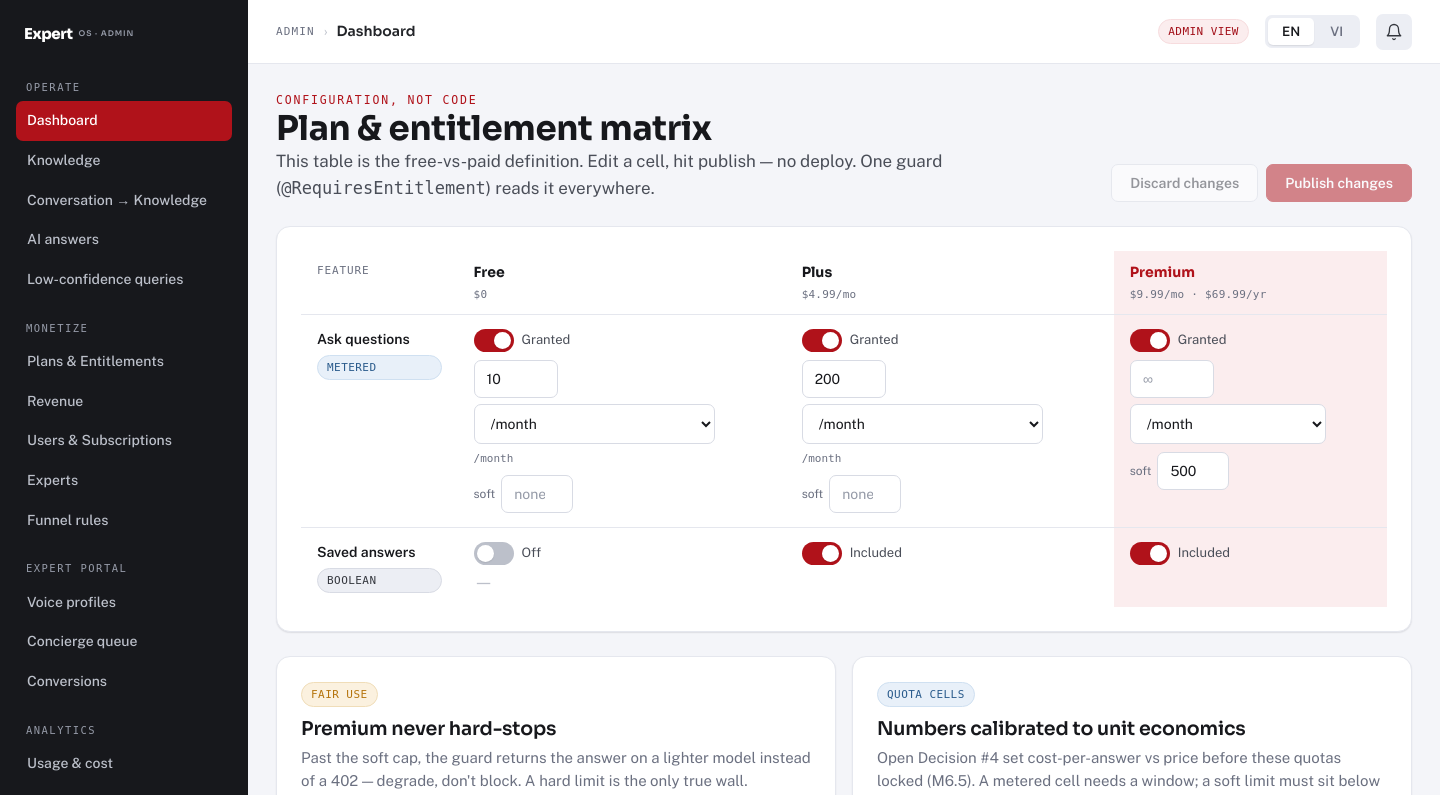
EntitlementsPage — staged publish › discards staged edits, reverting the dirty cell
Expected: the text "Ask questions" is shown, [317, 331, 410, 347]
Click the checkbox labelled "Off". click: {"x": 507, "y": 554}
box: [474, 542, 541, 565]
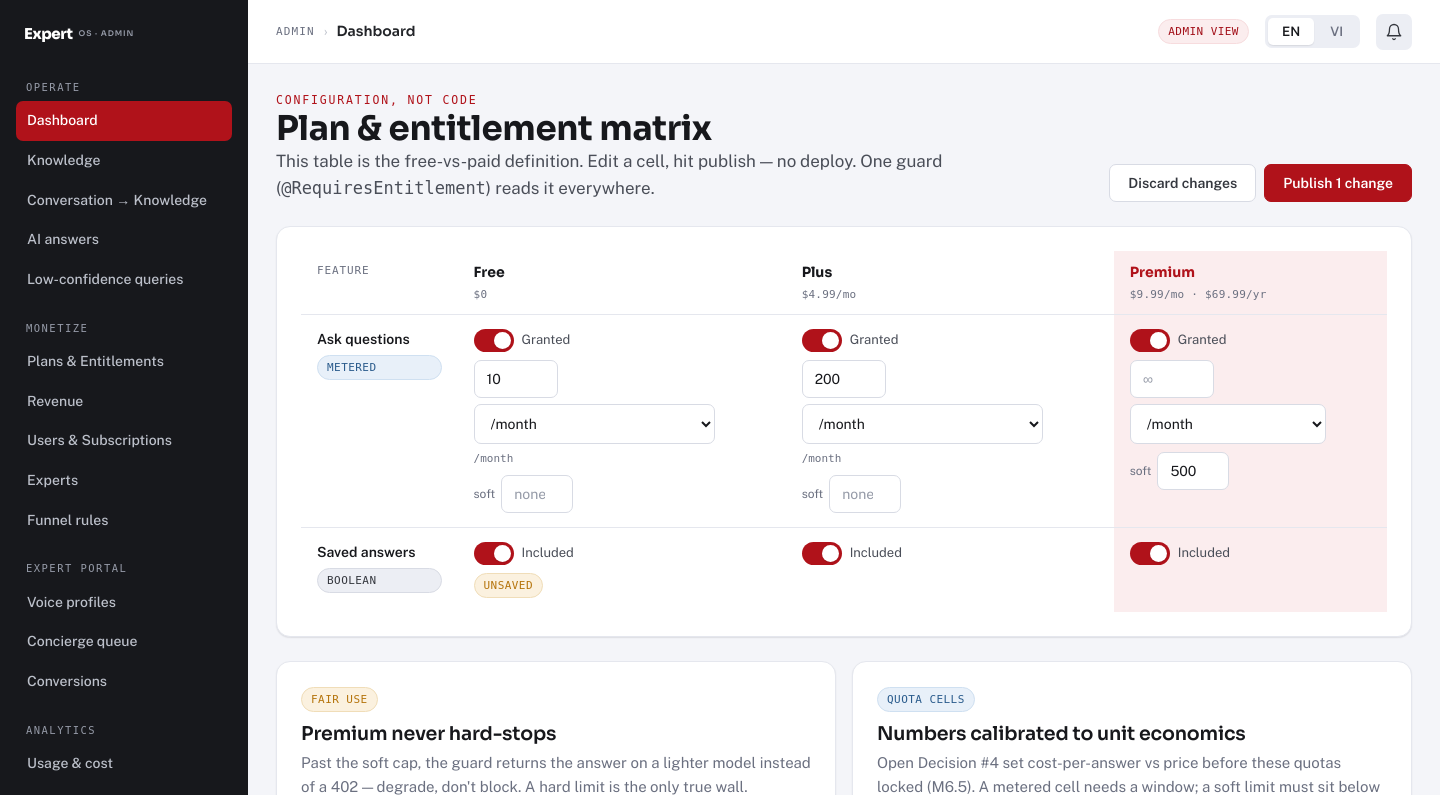
Result: the text "Unsaved" is shown at [474, 573, 543, 598]
Click the button "Discard changes". click: {"x": 1183, "y": 183}
box: [1109, 164, 1256, 202]
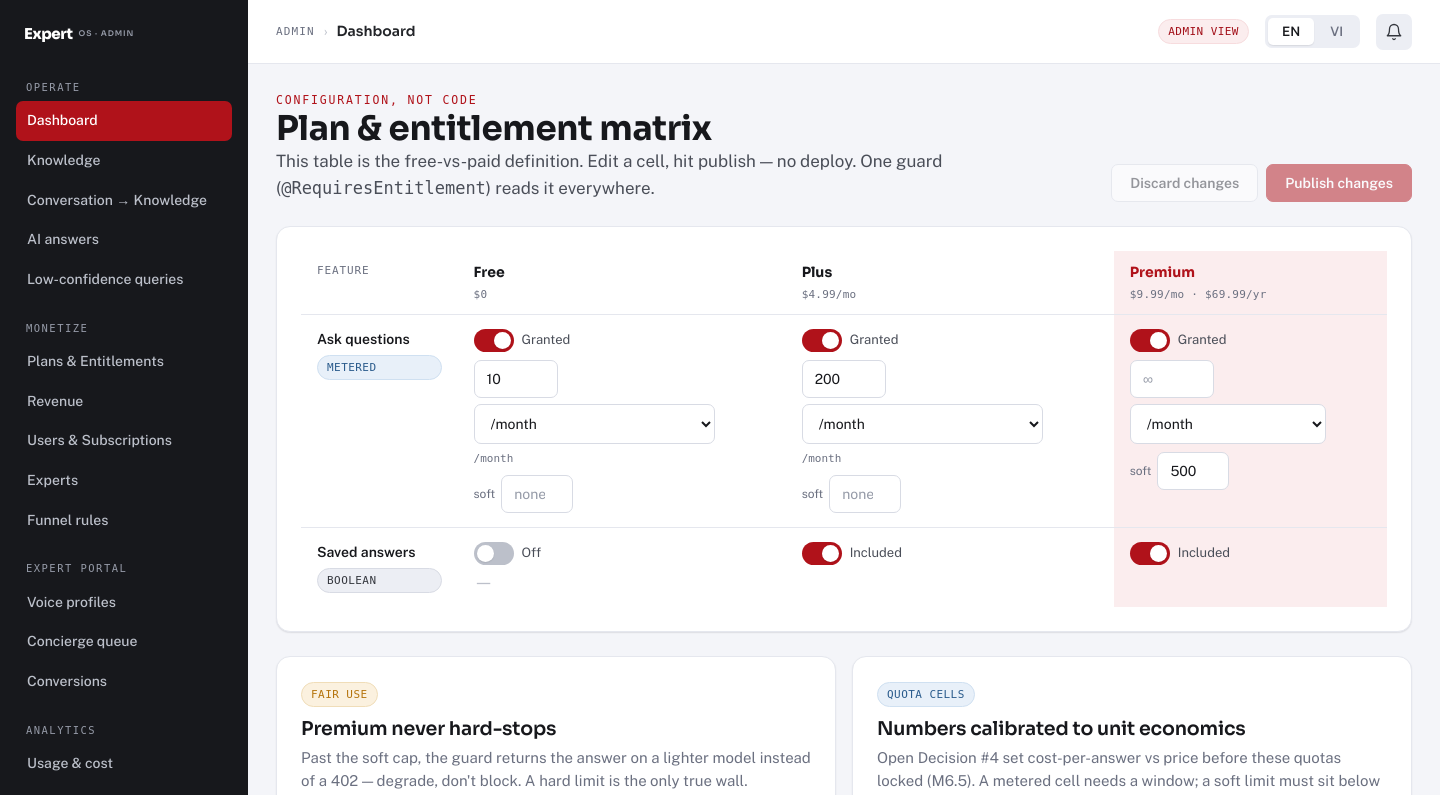
Result: the text "Unsaved" is gone
Result: the button "Publish changes" is disabled at [1266, 164, 1412, 202]
